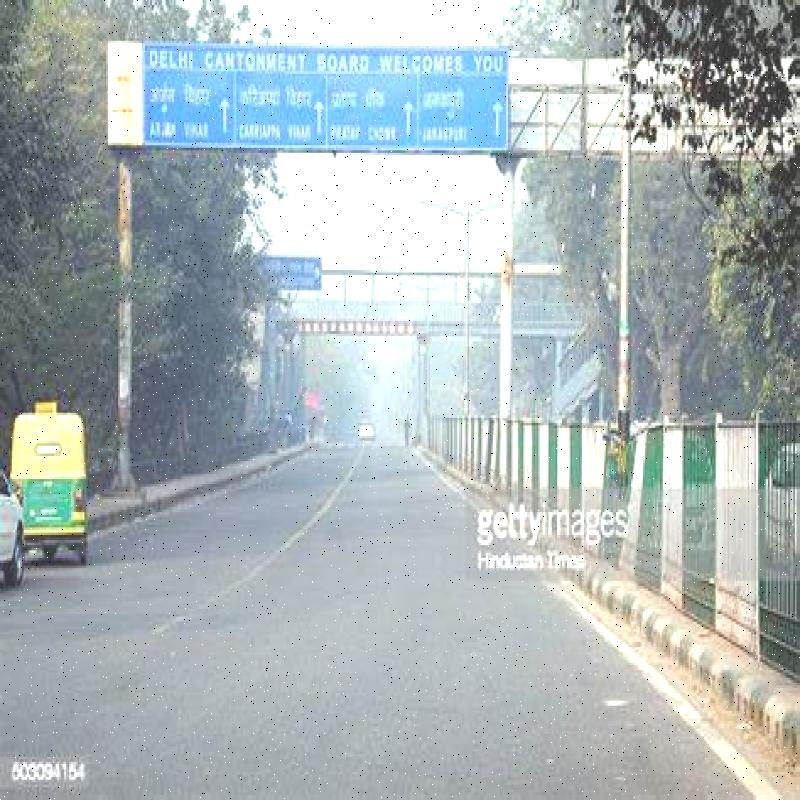auto: (17, 391, 96, 563)
bike: (13, 387, 103, 562)
